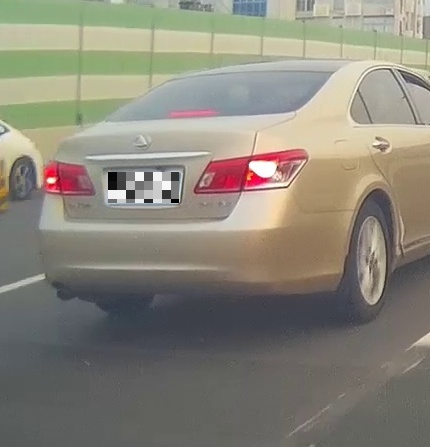L_light: (40, 160, 96, 196)
R_light: (193, 148, 309, 193)
T_light: (171, 110, 217, 118)
day-right: (37, 63, 342, 321)
plate_1: (108, 172, 179, 203)
